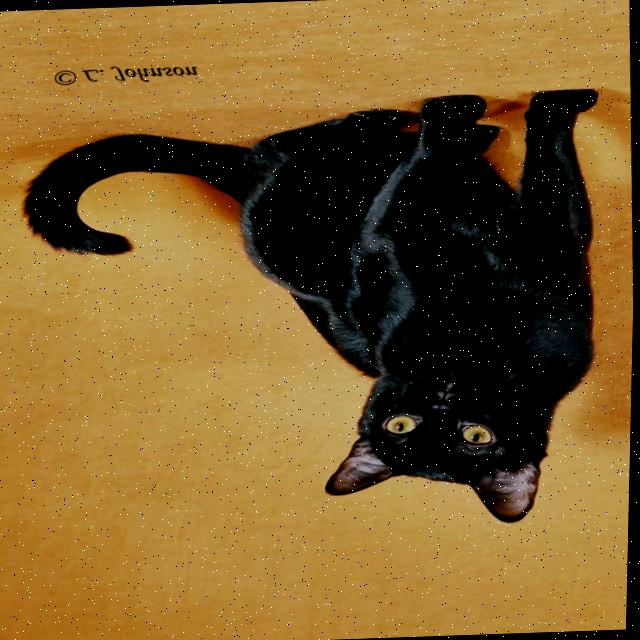Bombay: (8, 84, 621, 542)
